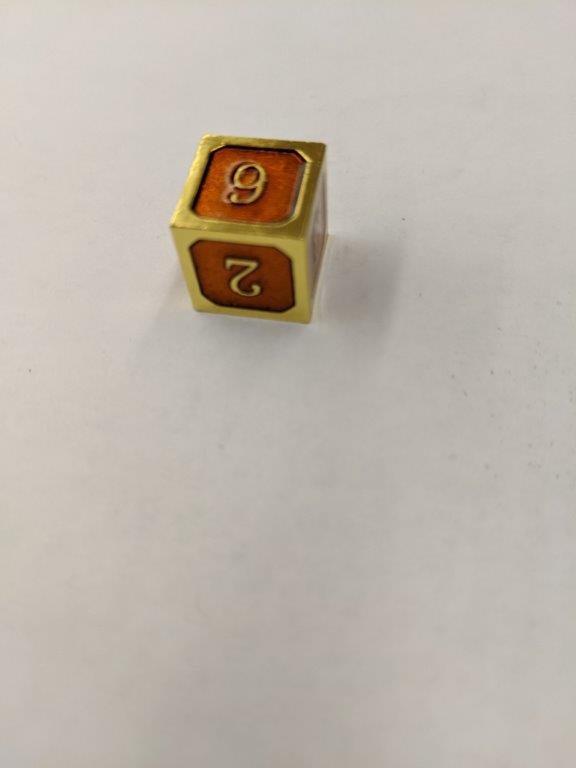d6-6: (173, 131, 330, 327)
